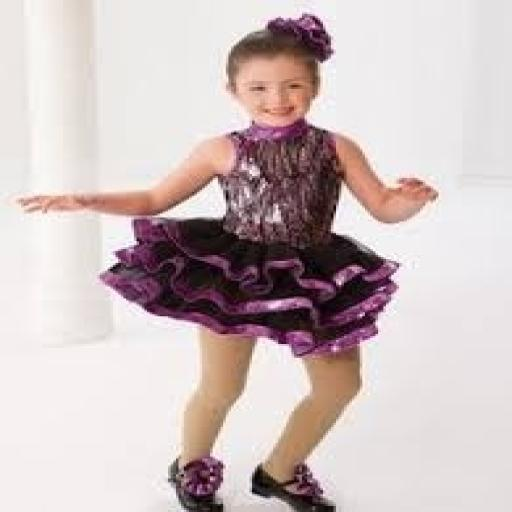dancing: (11, 12, 441, 510)
